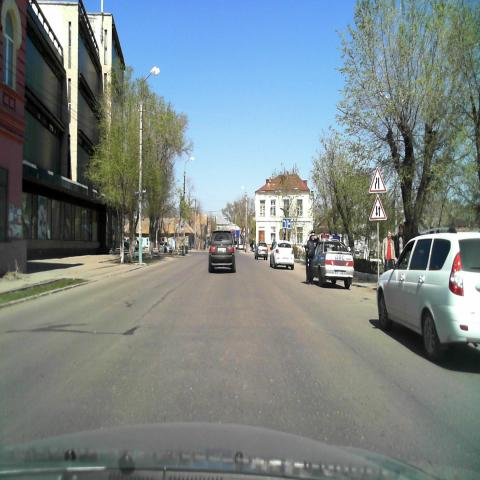1_20_3: (368, 166, 387, 194)
1_21: (368, 195, 388, 221)
